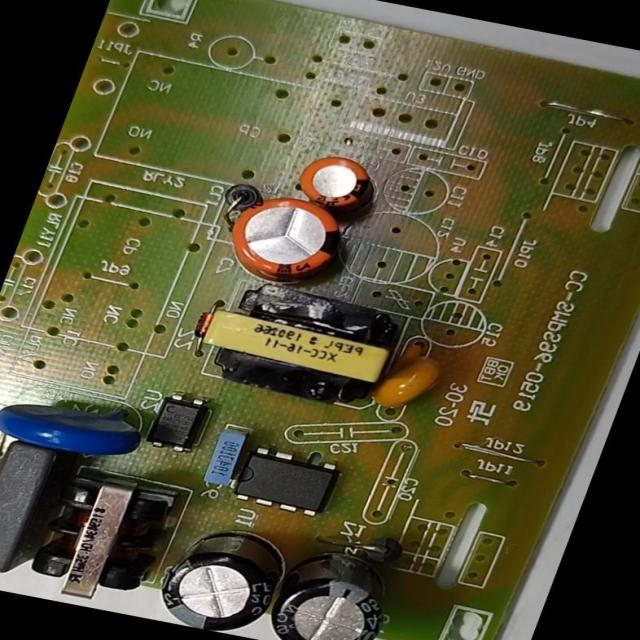Cap1: (201, 182, 374, 305)
Cap2: (279, 143, 389, 226)
Cap3: (149, 514, 313, 640)
Cap4: (252, 539, 408, 640)
MOSFET: (219, 431, 352, 524)
Mov: (0, 379, 162, 467)
Transformer: (178, 270, 429, 424), (8, 459, 199, 618)
